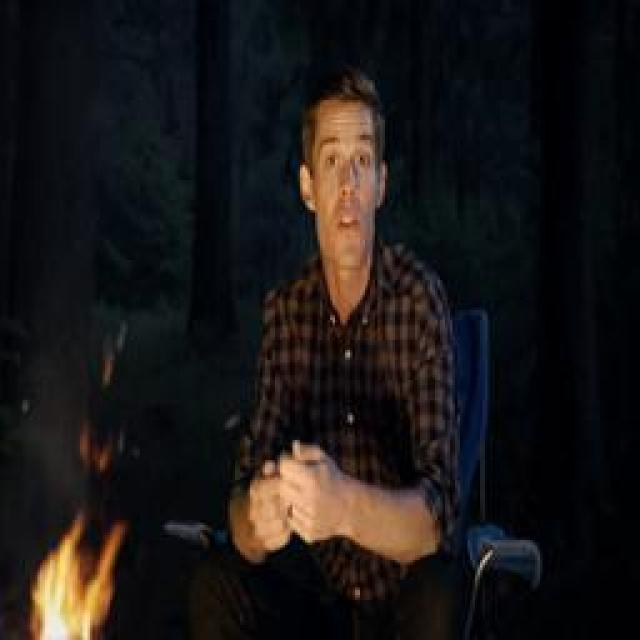Fire: (30, 512, 125, 640)
